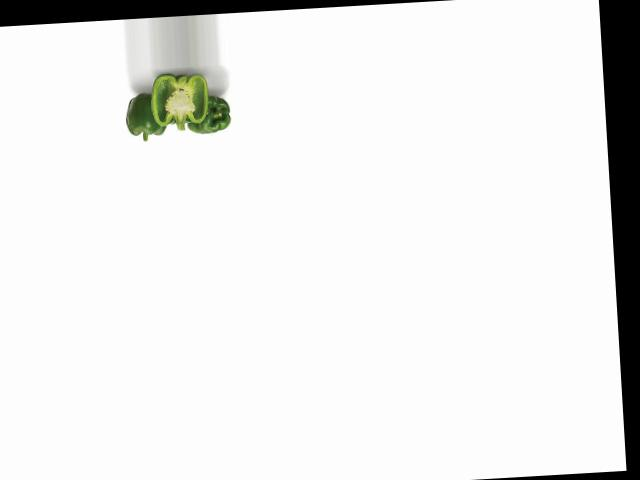bell_pepper: (181, 89, 235, 139)
